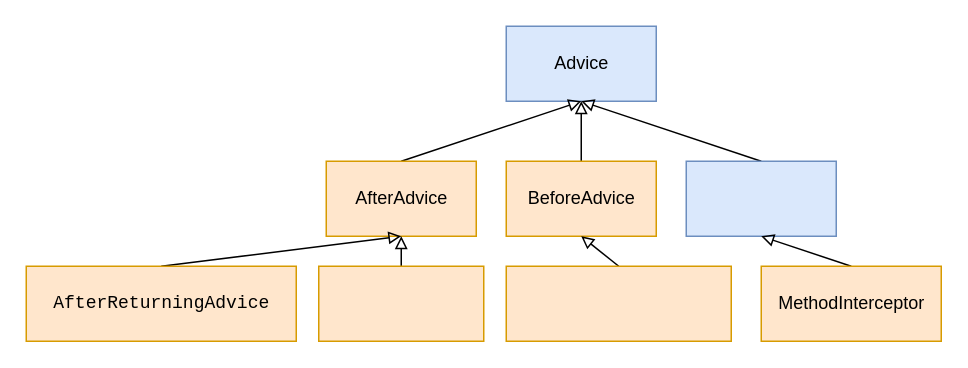
Image size: 968x368. Some labels were removed from this diagram. Each missing label, with the centre of its shape:
Interceptor: (760,198)
MethodBeforeAdvice: (618,303)
ThrowsAdvice: (400,303)
